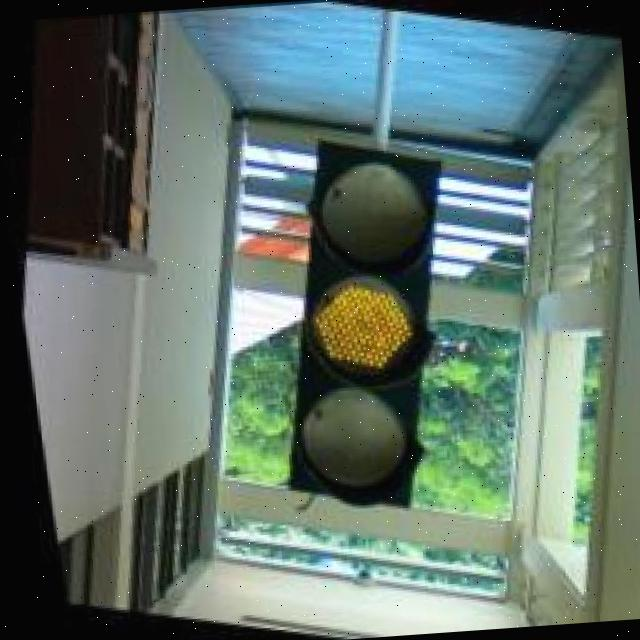yellow_light: (228, 125, 488, 524)
